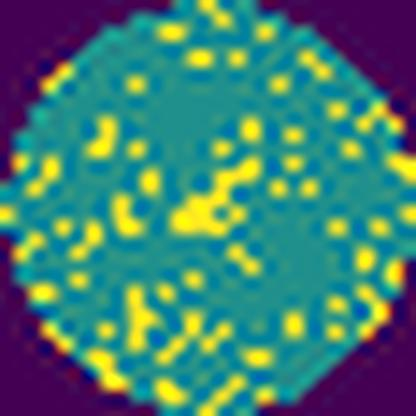Center: (160, 150, 265, 240)
